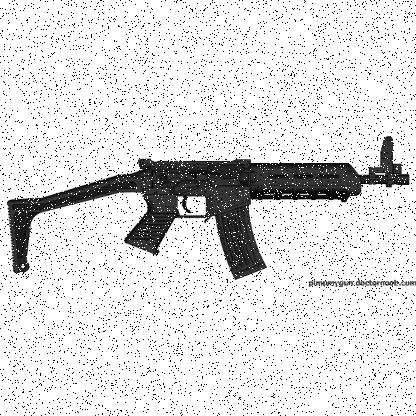gun: (0, 146, 415, 275)
